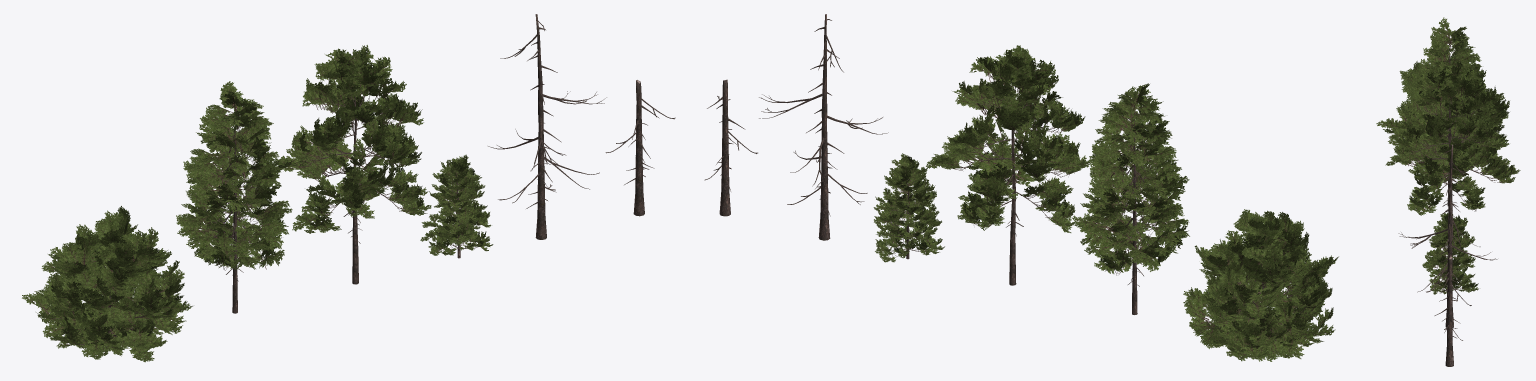
The model's file is trees_pack.fbx.
3 views of the same model, side by side, from view 1: azimuth 30°, elevation 25°; view 2: azimuth 150°, elevation 25°; view 3: azimuth 270°, elevation 25° (orthographic). The views are drawn at different scales.
Visible parts, largest first — view 1: long_1, small_2, long_2, small_1, dead_2, dead_1; view 2: long_1, small_2, long_2, small_1, dead_2, dead_1; view 3: long_1, long_2, small_1, small_2, dead_2, dead_1.
Part boxes in pixels (x1=…): long_1: x1=275, y1=45, x2=431, y2=284; small_2: x1=22, y1=206, x2=192, y2=362; long_2: x1=176, y1=81, x2=292, y2=313; small_1: x1=420, y1=154, x2=493, y2=258; dead_2: x1=488, y1=14, x2=606, y2=239; dead_1: x1=605, y1=80, x2=675, y2=216; long_1: x1=926, y1=45, x2=1091, y2=285; small_2: x1=1183, y1=209, x2=1338, y2=361; long_2: x1=1071, y1=83, x2=1189, y2=314; small_1: x1=873, y1=153, x2=944, y2=262; dead_2: x1=759, y1=14, x2=888, y2=240; dead_1: x1=704, y1=79, x2=757, y2=216; long_1: x1=1385, y1=60, x2=1520, y2=246; long_2: x1=1398, y1=17, x2=1496, y2=205; small_1: x1=1422, y1=212, x2=1478, y2=294; small_2: x1=1376, y1=58, x2=1509, y2=166; dead_2: x1=1398, y1=144, x2=1497, y2=327; dead_1: x1=1426, y1=256, x2=1462, y2=366.
Bounding box in the file's own units: 4708 × 1750 × 1206.
